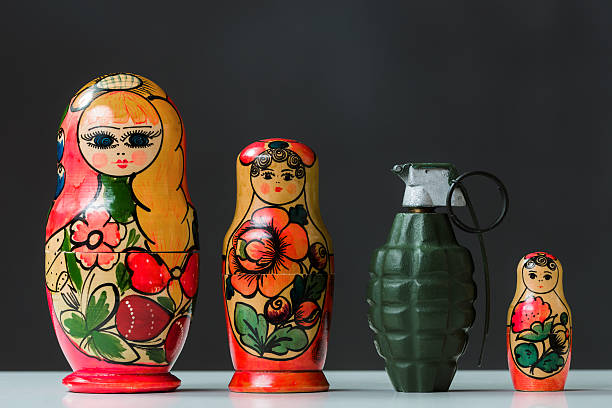e1: (366, 155, 509, 398)
